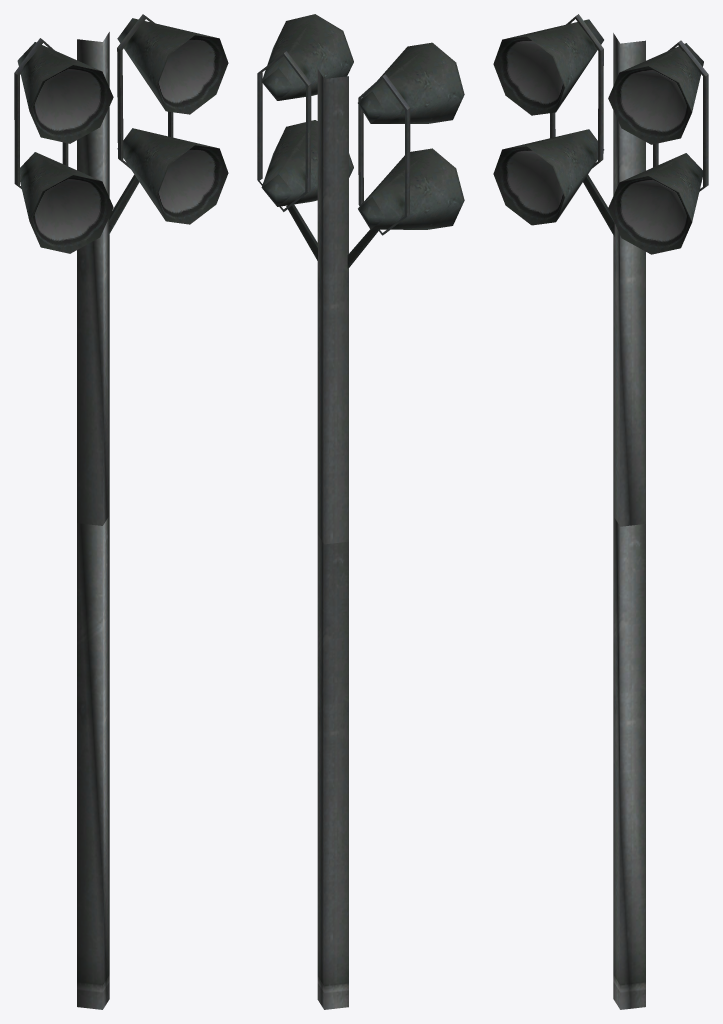
Rendered from Prop_Dj02_lod2.glb.
3 renders of one model, left to right at view 1: azimuth 30°, elevation 25°; view 2: azimuth 150°, elevation 25°; view 3: azimuth 330°, elevation 25°, orthographic. The views are drawn at different scales.
Visible parts, largest first — view 1: pvp_legionwar_dj02_lod2; view 2: pvp_legionwar_dj02_lod2; view 3: pvp_legionwar_dj02_lod2.
Part boxes in pixels (<box>): pvp_legionwar_dj02_lod2: <box>14,14,228,1009</box>; pvp_legionwar_dj02_lod2: <box>257,14,464,1009</box>; pvp_legionwar_dj02_lod2: <box>493,14,708,1009</box>.
Bounding box in the file's own units: 1.86 × 8.78 × 0.9141.
1 material, 1 textured.
